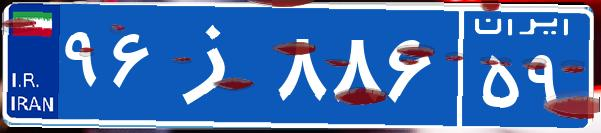5: (475, 38, 525, 113)
6: (385, 28, 445, 110), (110, 28, 158, 105)
8: (273, 28, 330, 110), (330, 28, 385, 110)
9: (57, 26, 110, 107), (525, 38, 570, 115)
ز: (158, 15, 273, 115)
